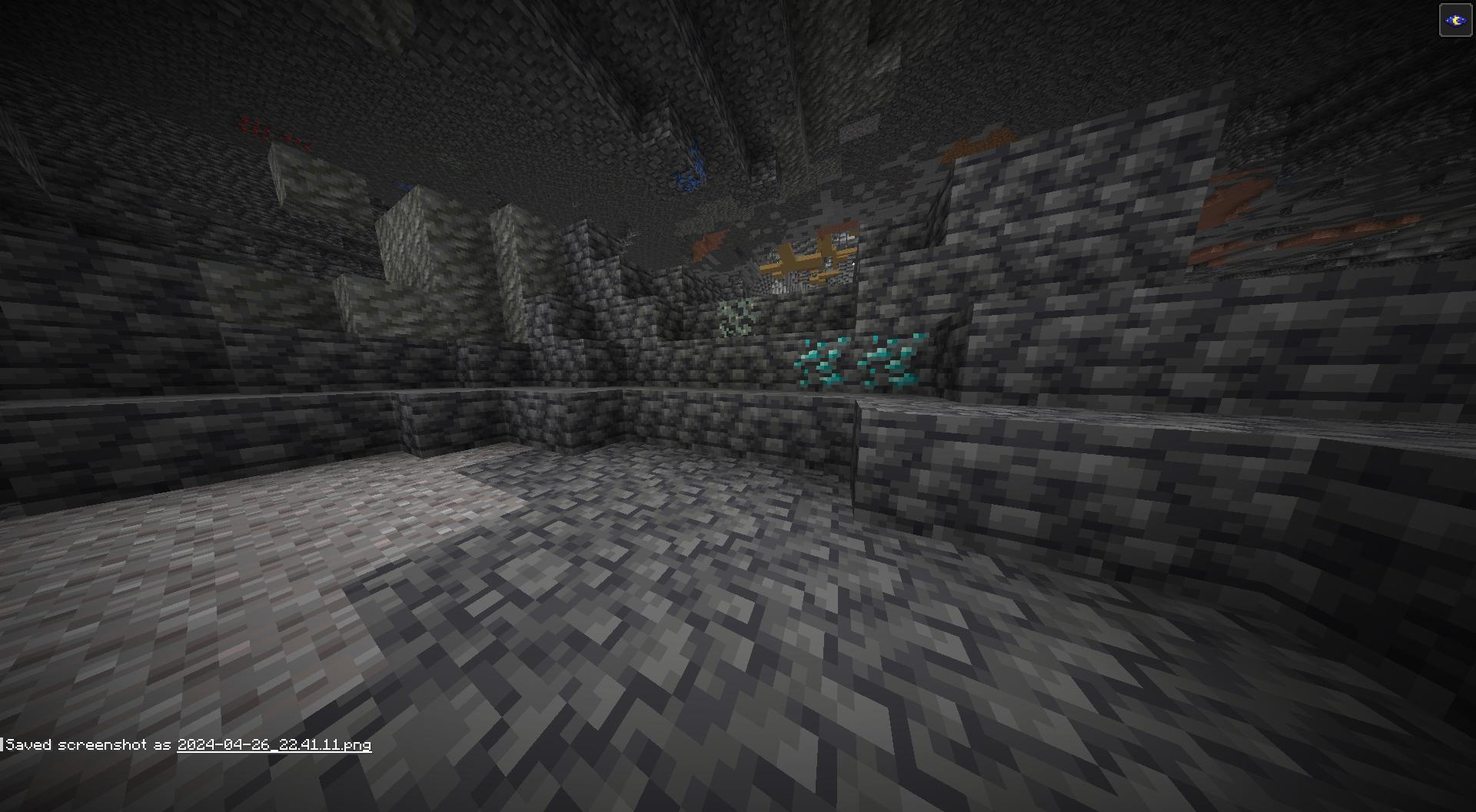diamond ore: (860, 334, 933, 397), (793, 335, 859, 392)
redstone ore: (234, 114, 270, 143), (278, 128, 313, 154)
